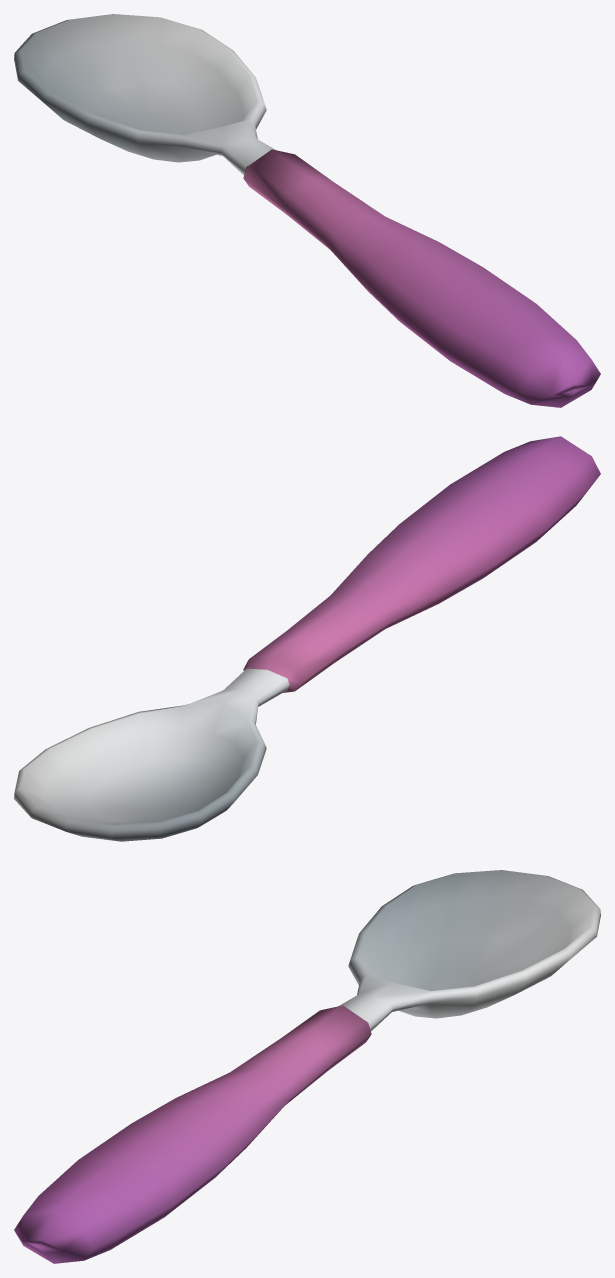
File: teaspoon_001.fbx
3 views of the same model, one above another, from view 1: azimuth 30°, elevation 25°; view 2: azimuth 150°, elevation 25°; view 3: azimuth 330°, elevation 25° (orthographic).
Parts seen in each view (by area): view 1: teaspoon_001; view 2: teaspoon_001; view 3: teaspoon_001.
Part boxes in pixels (left/top/right/bottom): teaspoon_001: left=14, top=14, right=600, bottom=407; teaspoon_001: left=14, top=436, right=600, bottom=841; teaspoon_001: left=14, top=870, right=600, bottom=1263.
Size of the model in its own units: 3.37 by 15.56 by 1.46.
